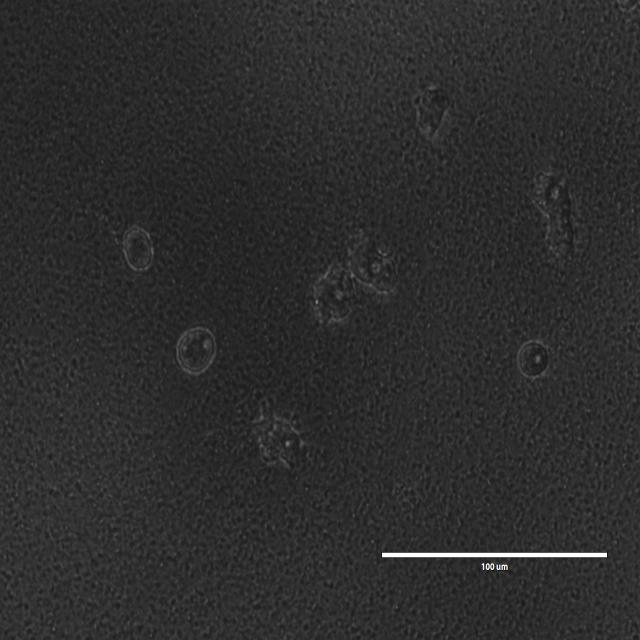Amoeba: (250, 402, 307, 468), (538, 170, 576, 266), (344, 222, 395, 292), (313, 258, 358, 326), (413, 85, 450, 136), (177, 326, 216, 374), (121, 224, 157, 272), (518, 336, 548, 382)
